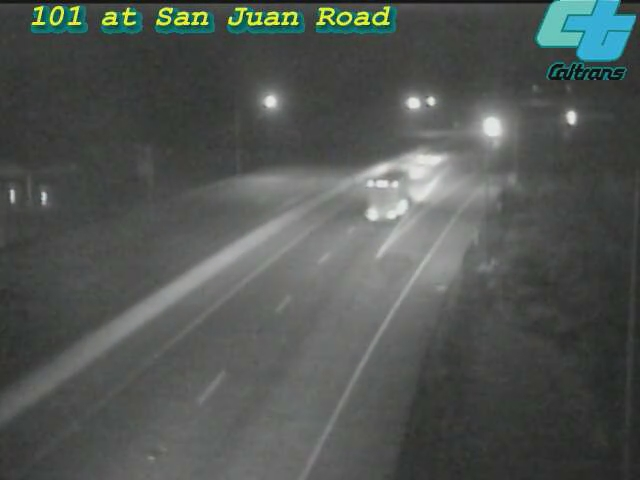vehicle: (364, 130, 444, 210), (348, 162, 428, 242), (464, 103, 514, 153), (548, 92, 598, 142), (400, 135, 450, 185)
